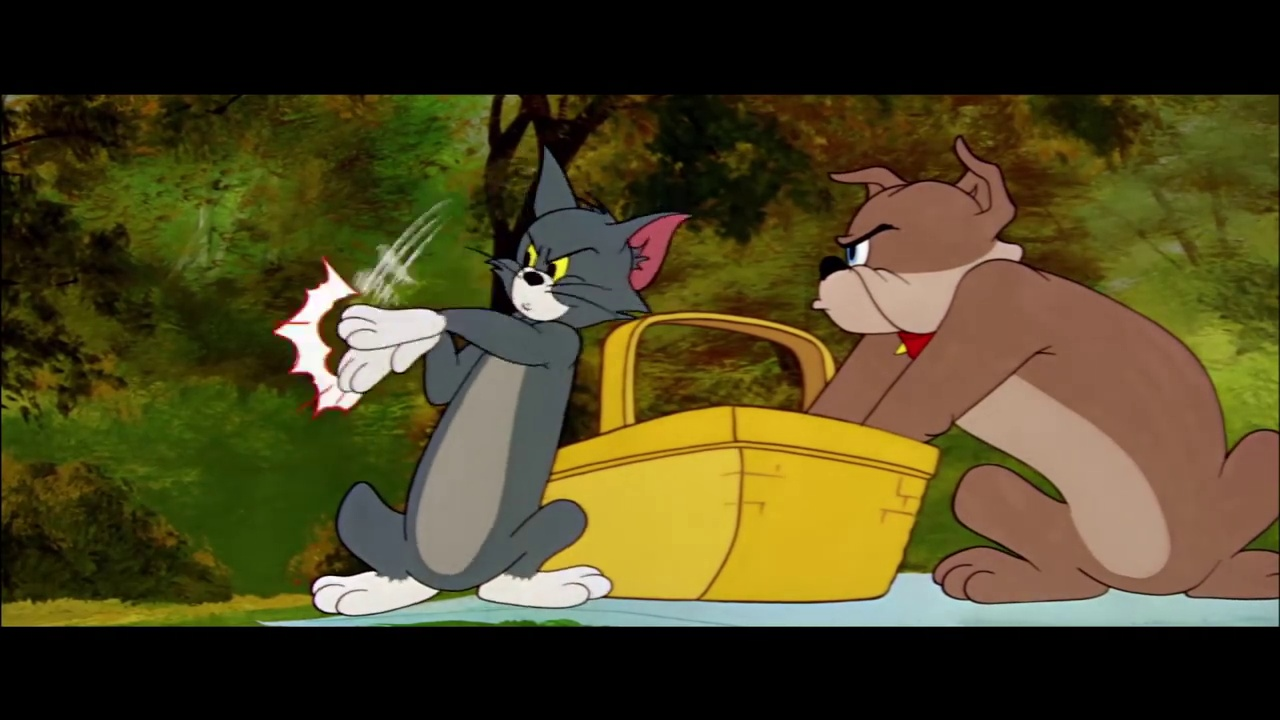spike: (808, 138, 1037, 362)
tom: (484, 144, 688, 331)
